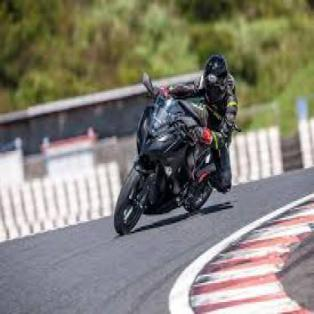Motocicleta: (109, 78, 213, 248)
